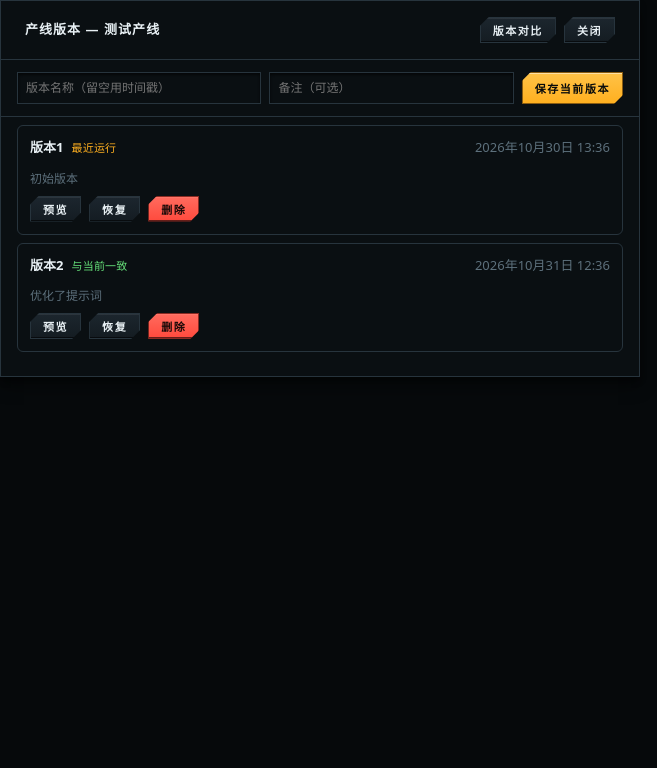
Test: VersionPanel › 版本对比 › 选满两个版本后拉取快照并展示新增节点
What coordinates should you click on to do the following:
click the button "版本对比"
I would click on:
 (518, 30)
Its box is [480,17,556,43].
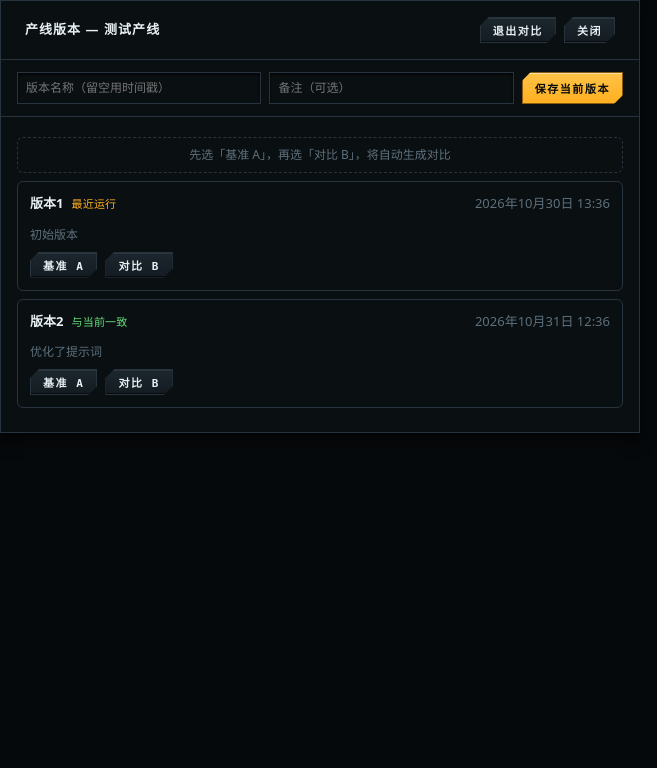
What coordinates should you click on to do the following:
click the button "基准 A" below "初始版本"
I would click on:
 (64, 264)
Its box is [30,252,97,278].
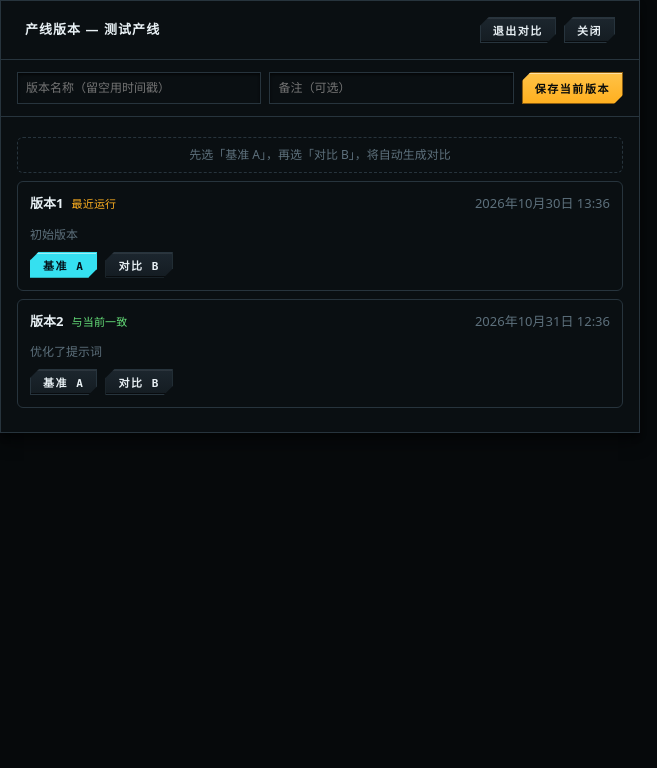
What coordinates should you click on to do the following:
click the button "对比 B" below "优化了提示词"
I would click on:
 (139, 382)
Its box is [105,369,173,395].
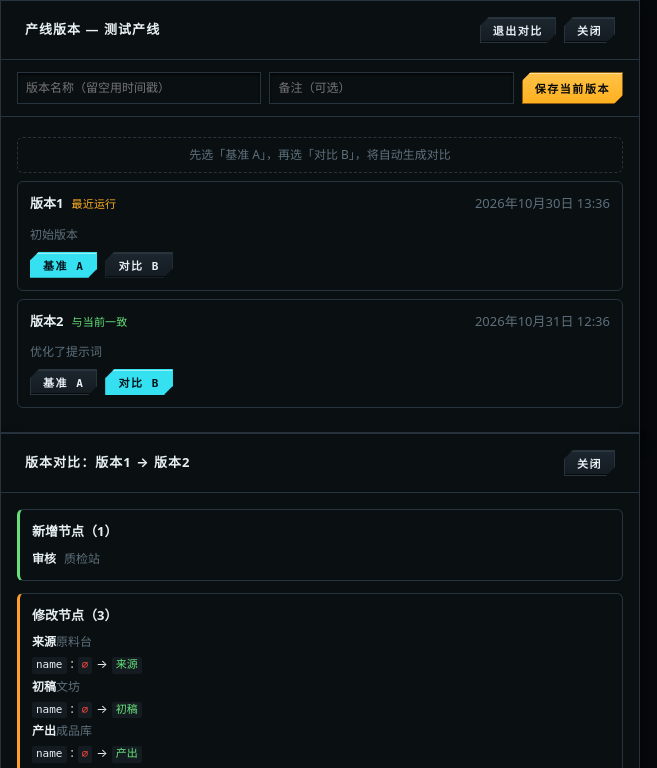
expect the heading "版本对比：版本1 → 版本2" is shown: met, box [25,453,191,473]
expect the heading "新增节点（1）" is shown: met, box [32,522,117,540]
expect the text "审核" is shown: met, box [32,550,56,568]
